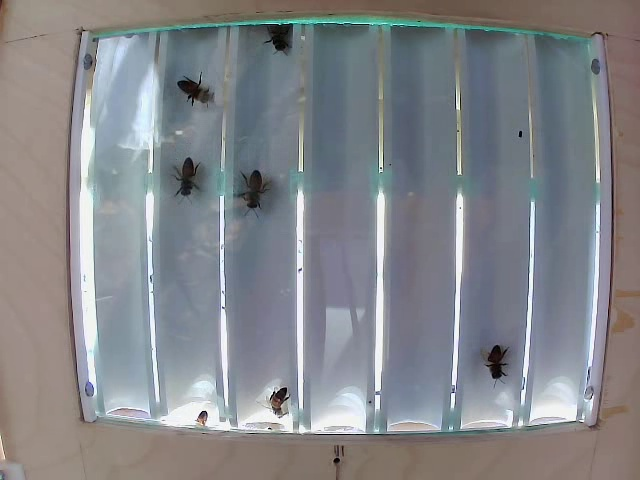bee: (180, 60, 225, 102), (168, 149, 204, 189), (263, 22, 299, 61), (258, 376, 295, 412), (240, 174, 266, 219), (475, 342, 504, 379)
